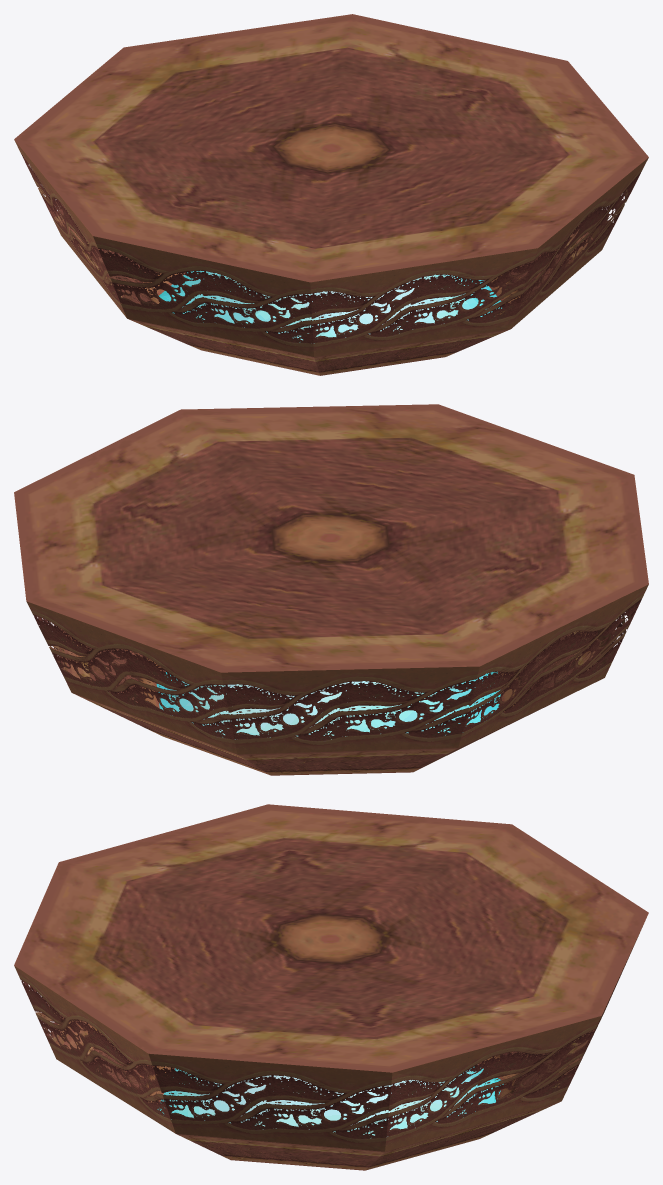
Rendered from plat-jungleb-lod1.glb.
3 views of the same model, one above another, from view 1: azimuth 30°, elevation 25°; view 2: azimuth 150°, elevation 25°; view 3: azimuth 270°, elevation 25° (orthographic). The views are drawn at different scales.
Parts seen in each view (by area): view 1: plat-jungleb-lod1; view 2: plat-jungleb-lod1; view 3: plat-jungleb-lod1.
Boxes of the visible parts, x1=… form: plat-jungleb-lod1: x1=14, y1=14, x2=648, y2=375; plat-jungleb-lod1: x1=14, y1=404, x2=648, y2=775; plat-jungleb-lod1: x1=14, y1=804, x2=648, y2=1170.
Size of the model in its own units: 4.72 by 1.29 by 4.72.
3 materials, 3 textured.
